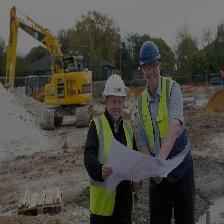Person: (135, 39, 195, 224), (83, 74, 137, 224)
helmet: (102, 73, 128, 102), (138, 41, 164, 69)
vest: (87, 117, 131, 214), (140, 79, 170, 158)
